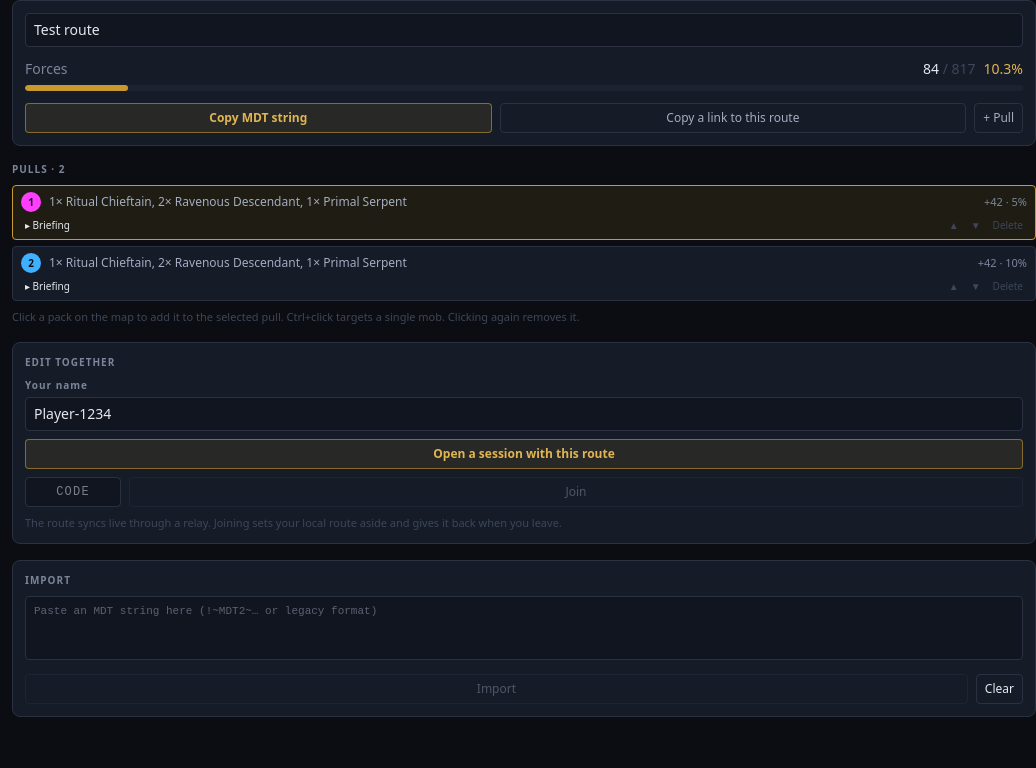
it: Copying a link to the route › still copies an over-long link, and says how long it is
Click the button "Copy a link to this route": click(733, 118) [500,103,966,133]
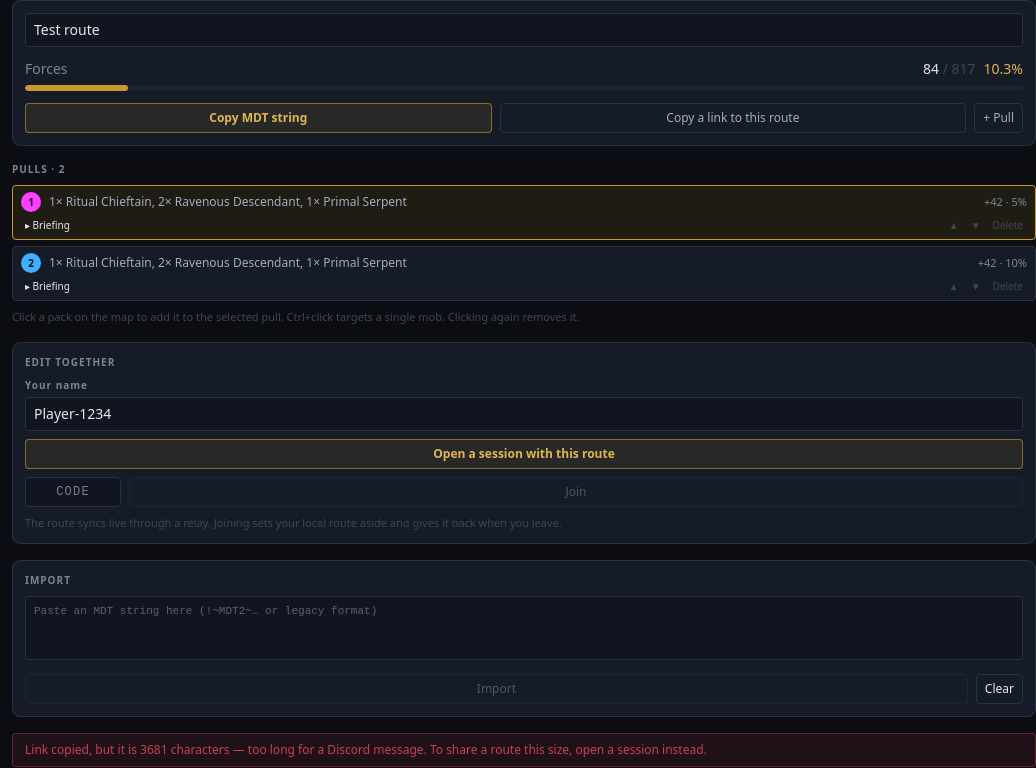
Now the text "3681" is shown, box [25,740,707,758]
